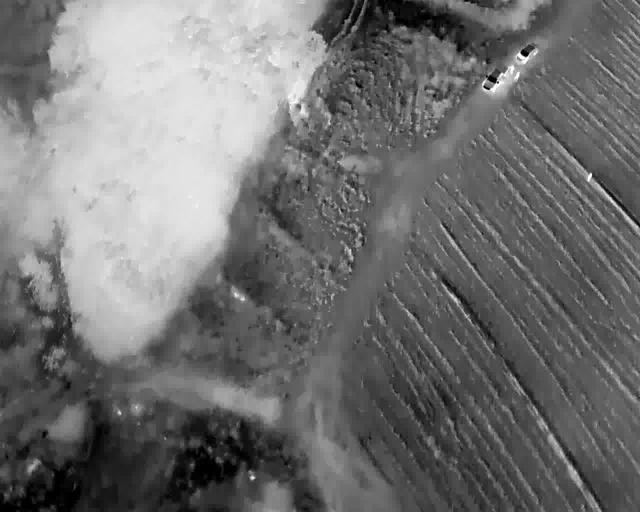car: (485, 61, 502, 94), (520, 41, 533, 65)
person: (586, 172, 592, 181), (514, 71, 519, 81), (509, 65, 514, 74)
